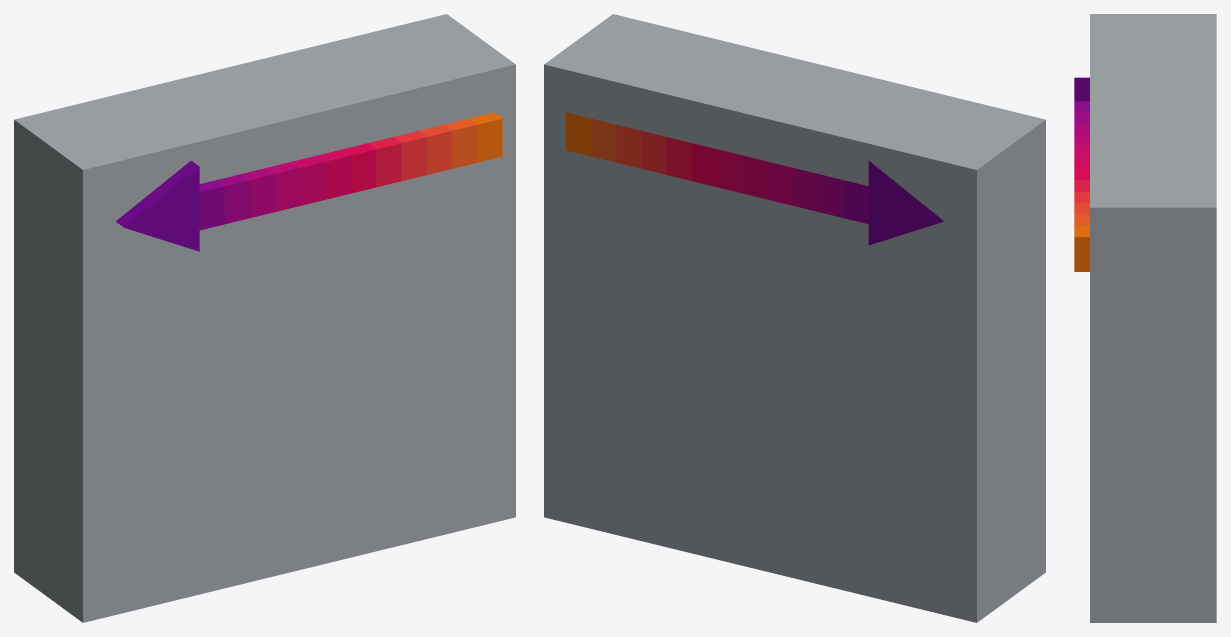
The model's file is tinker.obj.
3 views of the same model, side by side, from view 1: azimuth 30°, elevation 25°; view 2: azimuth 150°, elevation 25°; view 3: azimuth 270°, elevation 25° (orthographic). The views are drawn at different scales.
Visible parts, largest first — view 1: group_0_10988977, group_0_8192161, group_0_16259401, group_0_16605215, group_0_14549102, group_0_11337872, group_0_12583045, group_0_15269986, group_0_13697146, group_0_16478727, group_0_15859798, group_0_9896089 (+2 smaller); view 2: group_0_10988977, group_0_8192161, group_0_16478727, group_0_9896089, group_0_11337872, group_0_14549102, group_0_15269986, group_0_15859798, group_0_16528956, group_0_16665647, group_0_16259401, group_0_16605215 (+2 smaller); view 3: group_0_10988977, group_0_16478727, group_0_8192161.
Boxes of the visible parts, x1,y1,x2,y2 form: group_0_10988977: (14,14,515,622); group_0_8192161: (116,160,199,251); group_0_16259401: (368,137,401,187); group_0_16605215: (444,118,477,168); group_0_14549102: (292,155,325,205); group_0_11337872: (216,174,250,224); group_0_12583045: (242,168,275,217); group_0_15269986: (318,149,351,199); group_0_13697146: (267,161,300,211); group_0_16478727: (469,112,502,162); group_0_15859798: (343,143,376,193); group_0_9896089: (199,180,224,230); group_0_10988977: (544,14,1045,622); group_0_8192161: (868,161,943,245); group_0_16478727: (565,112,590,156); group_0_9896089: (843,180,868,224); group_0_11337872: (818,174,843,217); group_0_14549102: (742,155,767,199); group_0_15269986: (717,149,742,193); group_0_15859798: (692,143,717,186); group_0_16528956: (641,131,666,174); group_0_16665647: (616,124,641,168); group_0_16259401: (666,137,691,180); group_0_16605215: (591,118,616,162); group_0_10988977: (1090,14,1216,622); group_0_16478727: (1074,225,1089,271); group_0_8192161: (1074,77,1089,101).
Bounding box in the file's own units: 1 × 1 × 0.31.
